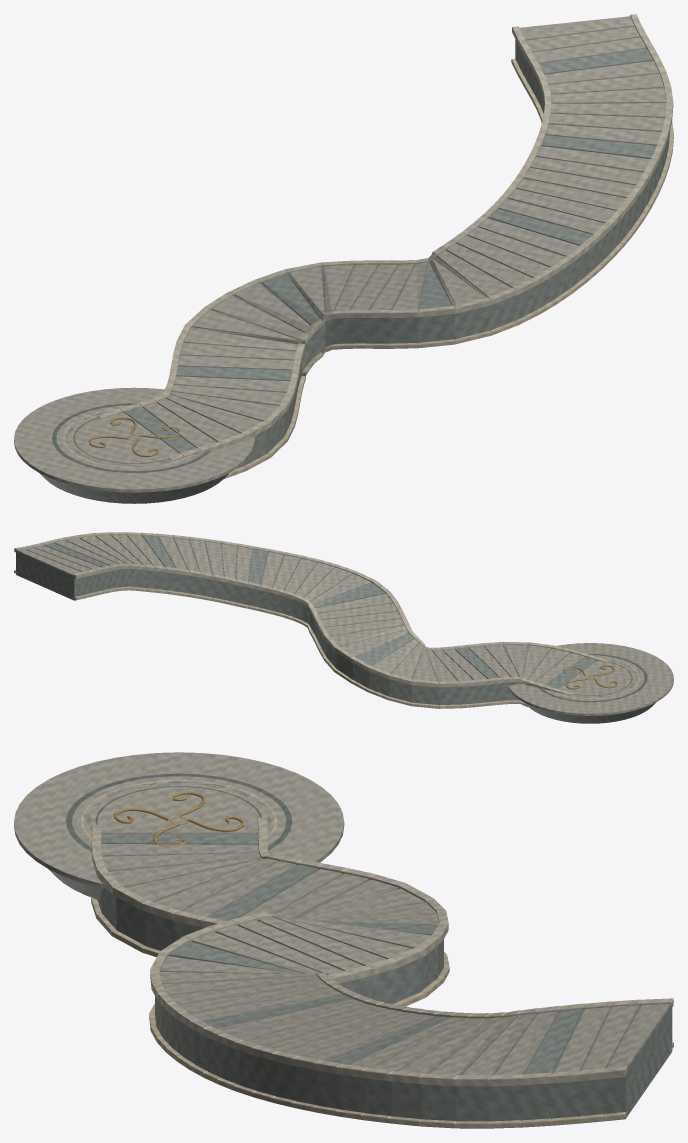
The picture shows the model from 3 angles, top to bottom: view 1: azimuth 30°, elevation 25°; view 2: azimuth 150°, elevation 25°; view 3: azimuth 270°, elevation 25°; orthographic projection. The views are drawn at different scales.
Parts seen in each view (by area): view 1: C03_stone, C03_cool, C03_light, C03_relief, C03_joint; view 2: C03_stone, C03_cool, C03_light, C03_relief, C03_joint, C03_motif; view 3: C03_stone, C03_cool, C03_light, C03_relief, C03_joint, C03_motif.
Boxes of the visible parts, x1,y1,x2,y2 form: C03_stone: (14, 16, 666, 492); C03_cool: (39, 27, 669, 503); C03_light: (97, 14, 673, 459); C03_relief: (62, 59, 673, 479); C03_joint: (52, 403, 211, 472); C03_stone: (18, 535, 673, 715); C03_cool: (16, 535, 655, 723); C03_light: (14, 532, 608, 695); C03_relief: (14, 570, 639, 708); C03_joint: (537, 654, 647, 702); C03_motif: (562, 665, 617, 689); C03_stone: (14, 752, 670, 1075); C03_cool: (48, 781, 672, 1128); C03_light: (91, 817, 673, 1086); C03_relief: (81, 779, 673, 1128); C03_joint: (66, 773, 292, 851); C03_motif: (114, 791, 243, 846).
Size of the model in its own units: 25.93 by 5.81 by 14.05.
Materials: 6 (5 with a texture image).
